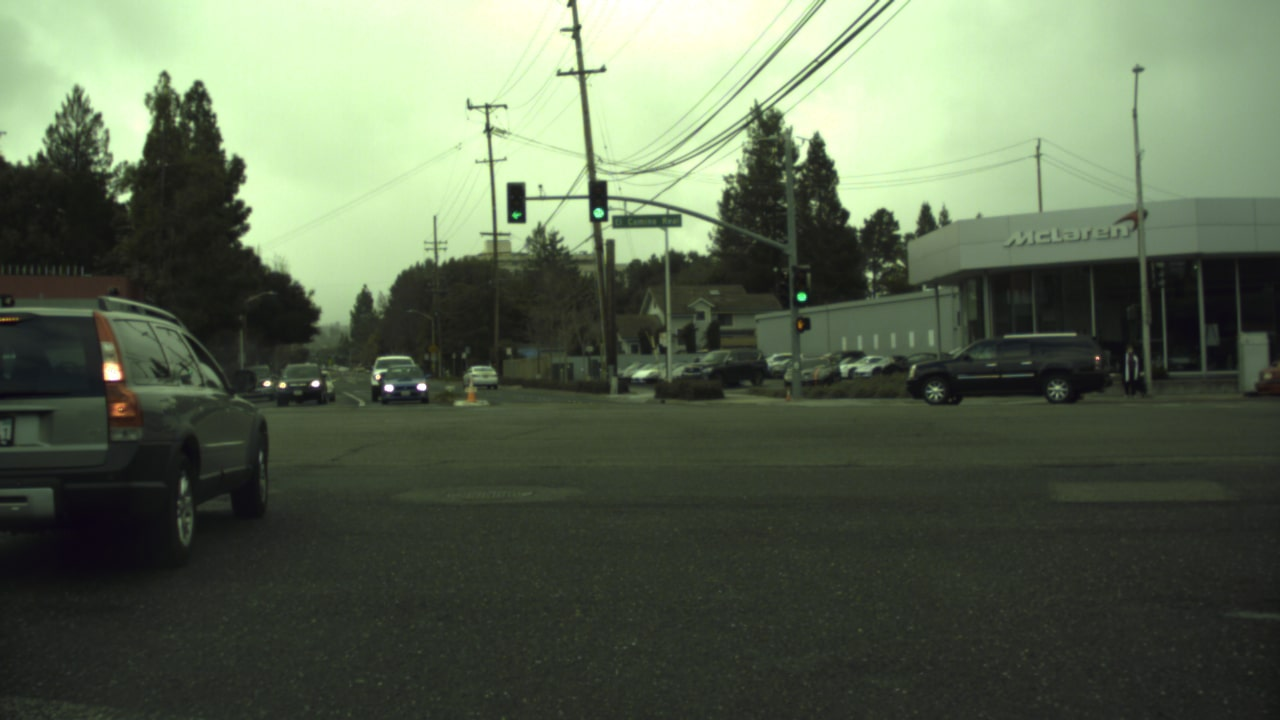signal: (589, 177, 608, 224), (795, 289, 812, 339), (508, 179, 524, 226)
